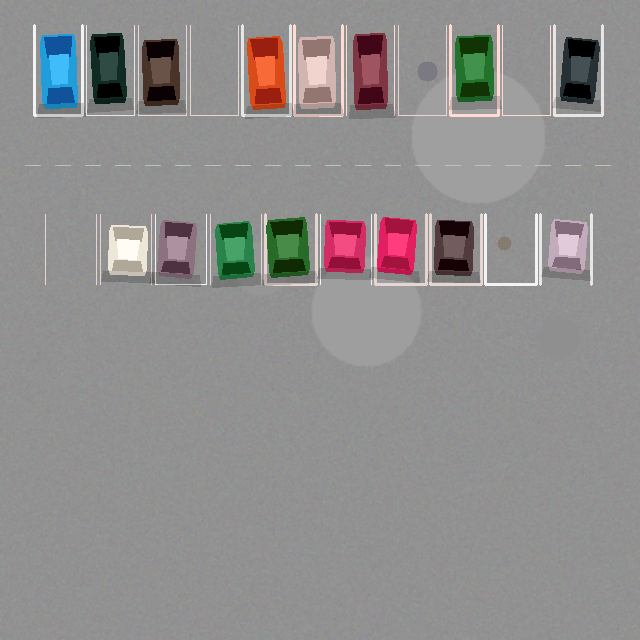space-empty: (190, 25, 238, 115), (398, 25, 446, 115), (502, 25, 550, 115), (45, 214, 96, 284), (485, 214, 536, 284)
space-occupied: (34, 25, 82, 115), (86, 25, 134, 115), (138, 25, 186, 115), (242, 25, 290, 115), (294, 25, 342, 115), (346, 25, 394, 115), (450, 25, 498, 115), (554, 25, 602, 115), (100, 214, 151, 284), (155, 214, 206, 284), (210, 214, 261, 284), (265, 214, 316, 284), (320, 214, 371, 284), (375, 214, 426, 284), (430, 214, 481, 284), (540, 214, 591, 284)
